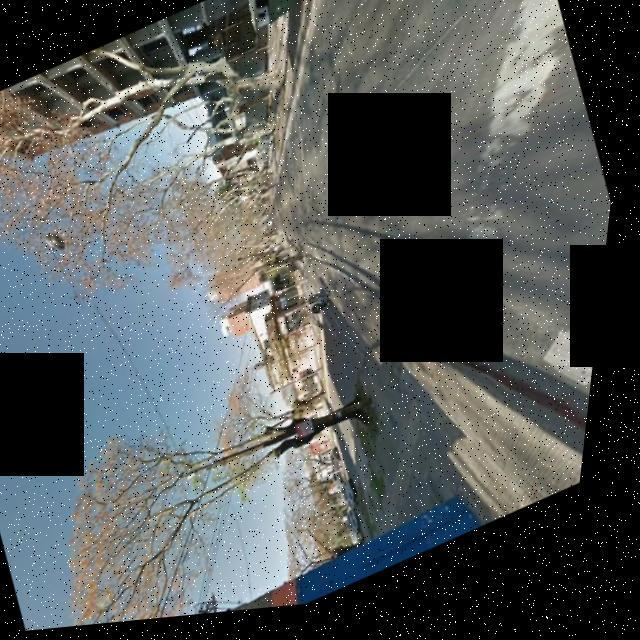bin: (225, 0, 331, 53)
